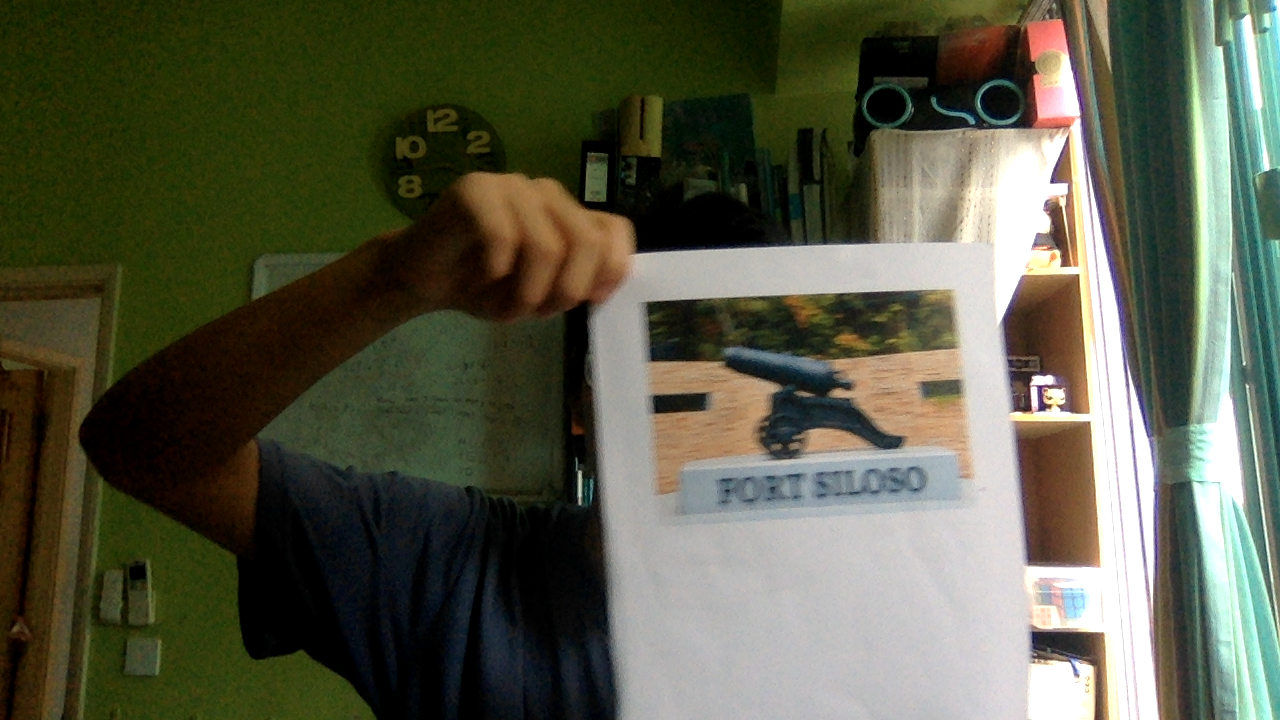siloso: (635, 291, 974, 516)
